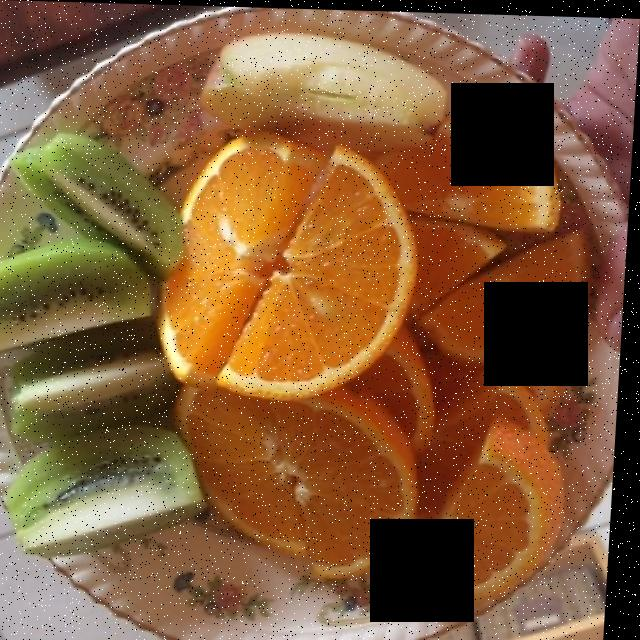fruit-salad: (9, 31, 609, 585)
